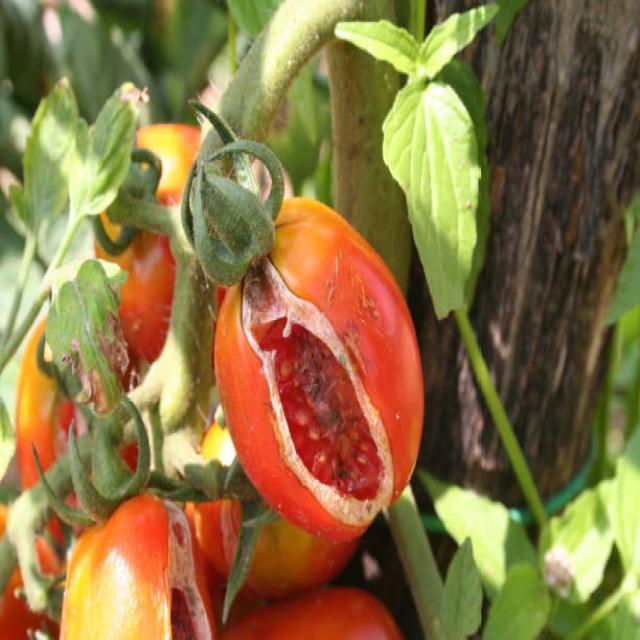damaged: (210, 165, 427, 550)
